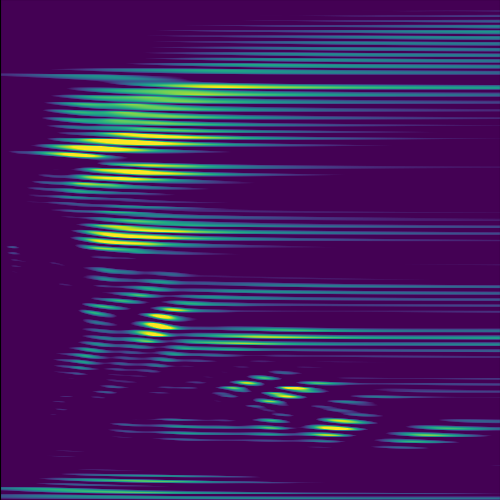semblance: (44, 128, 220, 162), (84, 214, 218, 254), (77, 160, 199, 187), (122, 300, 191, 347), (264, 379, 319, 404), (316, 412, 362, 439), (232, 372, 263, 388)
